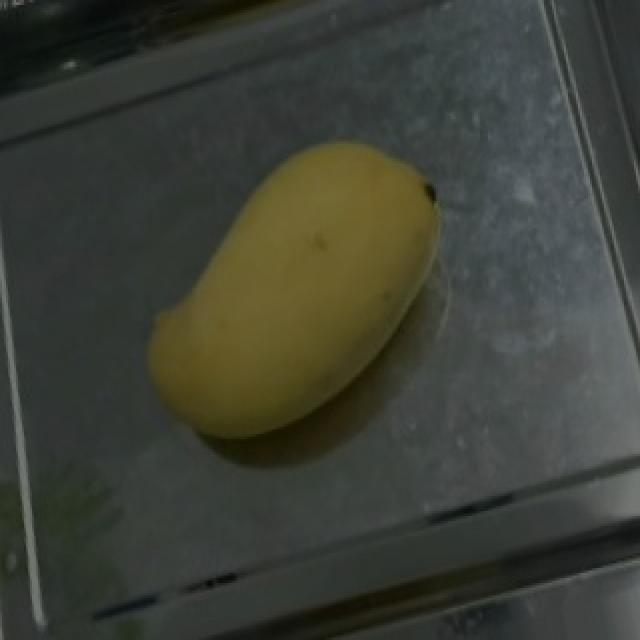fruit: (132, 97, 486, 476)
